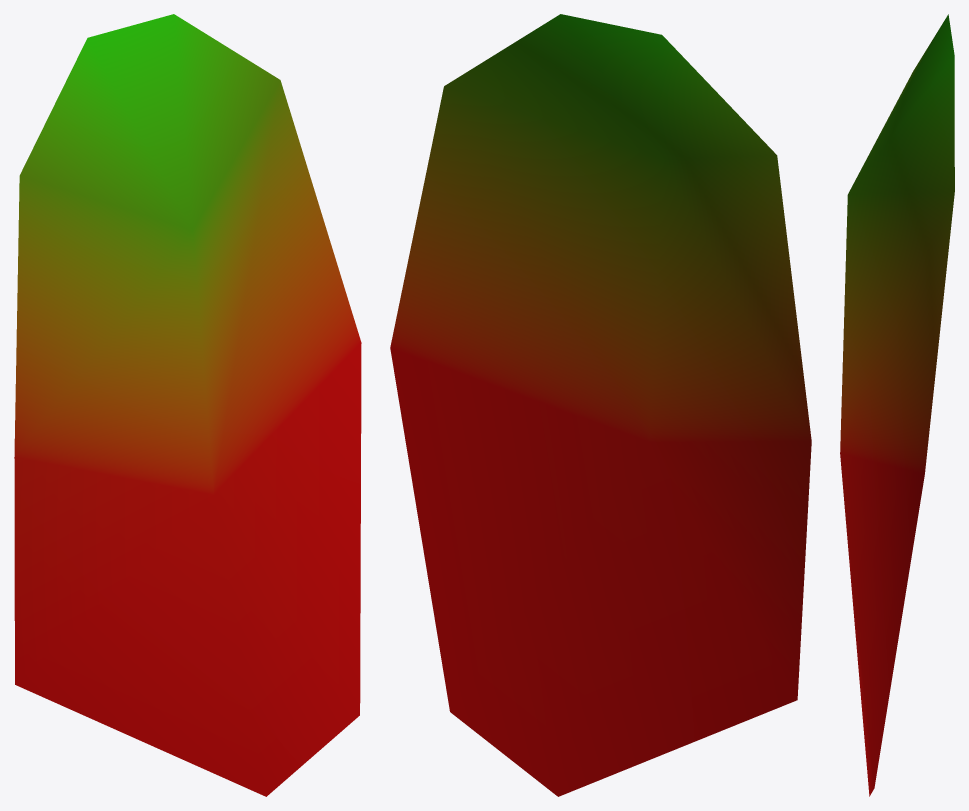
File: Var2_LOD6.fbx
3 views of the same model, side by side, from view 1: azimuth 30°, elevation 25°; view 2: azimuth 150°, elevation 25°; view 3: azimuth 270°, elevation 25° (orthographic). The views are drawn at different scales.
Parts seen in each view (by area): view 1: _daw0_Var2_LOD6; view 2: _daw0_Var2_LOD6; view 3: _daw0_Var2_LOD6.
Boxes of the visible parts, x1=… form: _daw0_Var2_LOD6: x1=14, y1=14, x2=361, y2=796; _daw0_Var2_LOD6: x1=390, y1=14, x2=811, y2=796; _daw0_Var2_LOD6: x1=840, y1=14, x2=954, y2=796.
Bounding box in the file's own units: 121 × 240 × 34.64.
